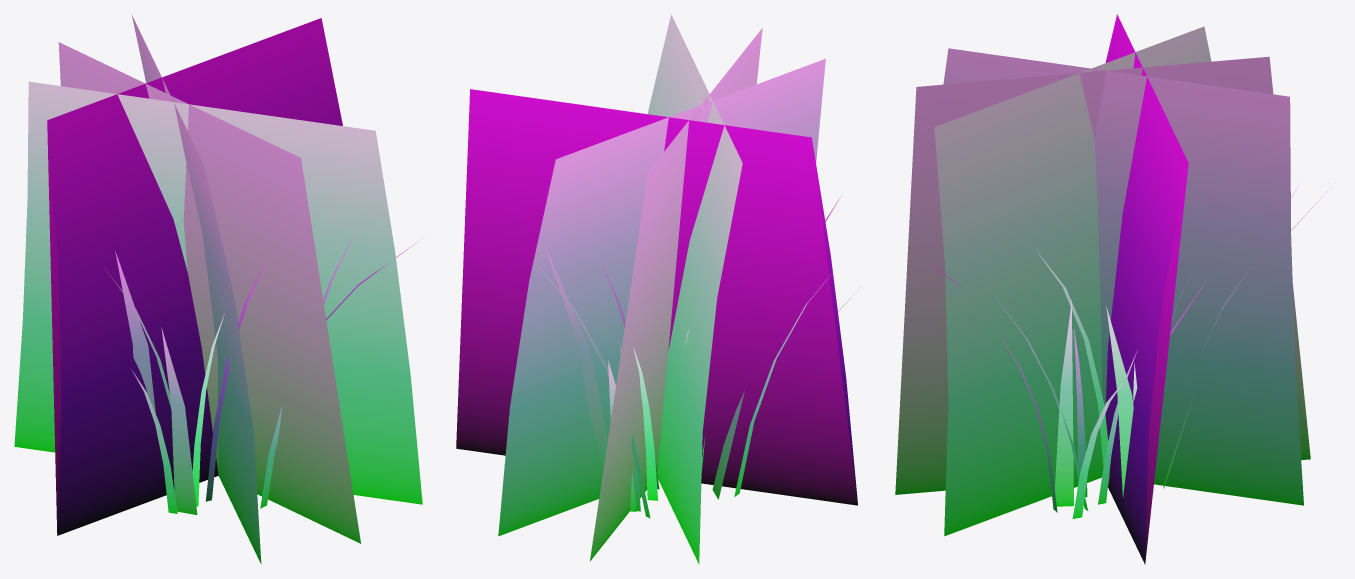
File: herb_cards.glb
3 views of the same model, side by side, from view 1: azimuth 30°, elevation 25°; view 2: azimuth 150°, elevation 25°; view 3: azimuth 270°, elevation 25° (orthographic).
Visible parts, largest first — view 1: clump_near, clump_far, grass_tuft_near, grass_tuft_far; view 2: clump_far, clump_near, grass_tuft_far, grass_tuft_near; view 3: clump_near, clump_far, grass_tuft_near, grass_tuft_far.
Boxes of the visible parts, x1=… form: clump_near: x1=14, y1=14, x2=422, y2=564; clump_far: x1=47, y1=42, x2=360, y2=543; grass_tuft_near: x1=34, y1=233, x2=415, y2=513; grass_tuft_far: x1=115, y1=251, x2=197, y2=514; clump_far: x1=456, y1=28, x2=857, y2=561; clump_near: x1=498, y1=14, x2=857, y2=564; grass_tuft_far: x1=544, y1=195, x2=841, y2=511; grass_tuft_near: x1=536, y1=264, x2=865, y2=518; clump_near: x1=934, y1=14, x2=1303, y2=564; clump_far: x1=895, y1=56, x2=1310, y2=561; grass_tuft_near: x1=932, y1=183, x2=1334, y2=518; grass_tuft_far: x1=1055, y1=186, x2=1298, y2=506.
Size of the model in its own units: 1 by 1 by 1.05.
